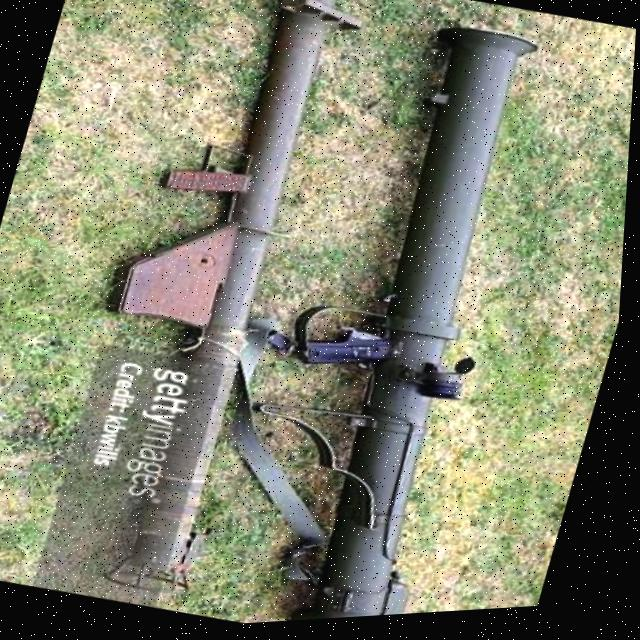rocket: (31, 0, 586, 637)
